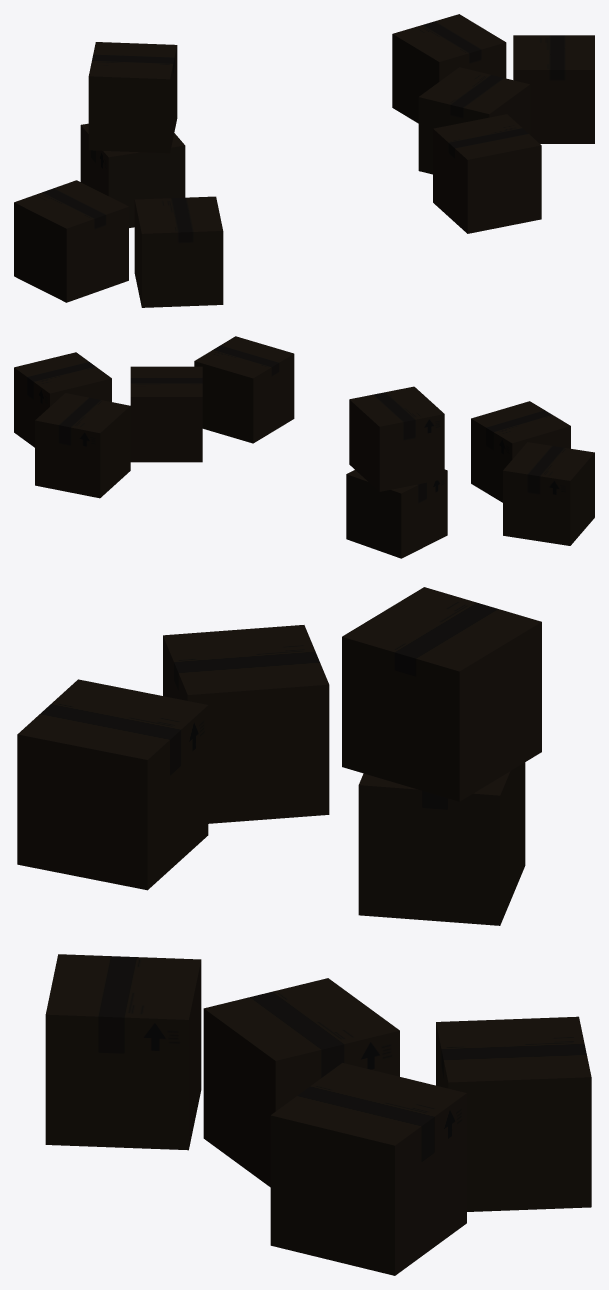
The model's file is EmptyRoomInterior4.FBX.
The picture shows the model from 3 angles, top to bottom: view 1: azimuth 30°, elevation 25°; view 2: azimuth 150°, elevation 25°; view 3: azimuth 270°, elevation 25°; orthographic projection. The views are drawn at different scales.
Parts seen in each view (by area): view 1: PackingBox_034, PackingBox_030, PackingBox_032, PackingBox_033, PackingBox_026, PackingBox_028, PackingBox_031, PackingBox_029; view 2: PackingBox_028, PackingBox_032, PackingBox_030, PackingBox_034, PackingBox_031, PackingBox_029, PackingBox_033, PackingBox_026; view 3: PackingBox_032, PackingBox_026, PackingBox_033, PackingBox_030, PackingBox_034, PackingBox_028, PackingBox_029, PackingBox_031.
Boxes of the visible parts, box(x1,y1,x2,y2) form: PackingBox_034: box(14, 180, 128, 302); PackingBox_030: box(433, 114, 541, 233); PackingBox_032: box(88, 42, 177, 153); PackingBox_033: box(134, 196, 223, 307); PackingBox_026: box(513, 35, 594, 143); PackingBox_028: box(392, 14, 506, 123); PackingBox_031: box(418, 67, 530, 174); PackingBox_029: box(80, 123, 185, 227); PackingBox_028: box(35, 393, 130, 498); PackingBox_032: box(349, 386, 444, 491); PackingBox_030: box(194, 336, 294, 443); PackingBox_034: box(503, 442, 594, 545); PackingBox_031: box(130, 366, 202, 462); PackingBox_029: box(346, 469, 447, 558); PackingBox_033: box(471, 401, 570, 502); PackingBox_026: box(14, 352, 111, 447); PackingBox_032: box(342, 587, 541, 801); PackingBox_026: box(270, 1063, 466, 1275); PackingBox_033: box(17, 679, 208, 890); PackingBox_030: box(45, 954, 201, 1150); PackingBox_034: box(163, 625, 329, 823); PackingBox_028: box(436, 1016, 591, 1211); PackingBox_029: box(358, 762, 525, 925); PackingBox_031: box(203, 978, 399, 1187).
Bounding box in the file's own units: 410 × 95.85 × 191.
1 material, 1 textured.
